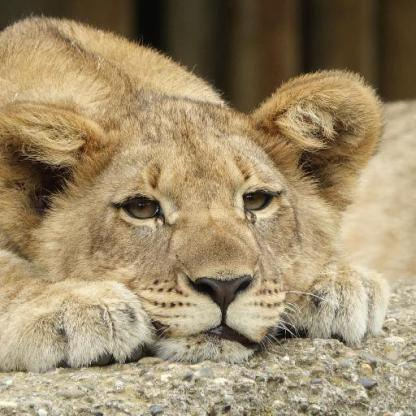lion: (48, 75, 369, 355)
